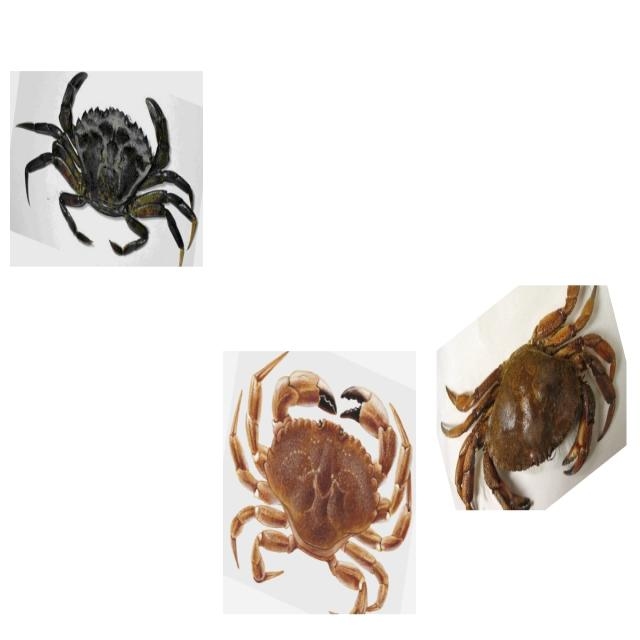egc: (8, 73, 202, 270)
jonah_crab: (225, 351, 416, 621)
rock_crab: (440, 286, 616, 509)
